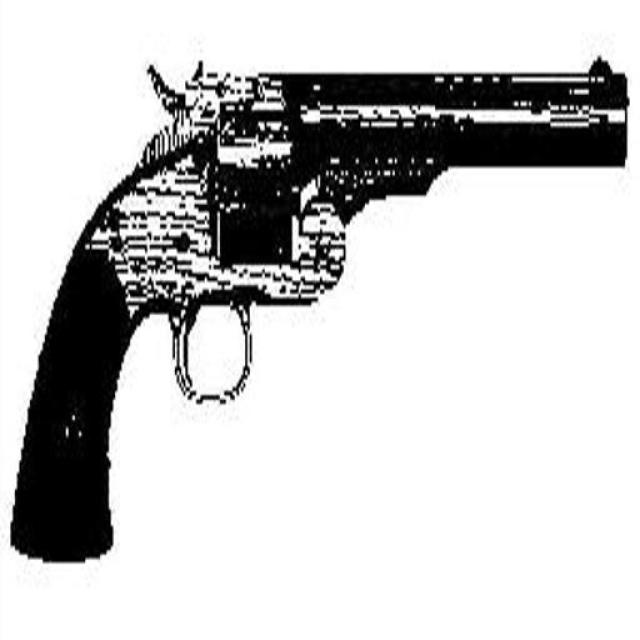pistol: (6, 52, 632, 566)
